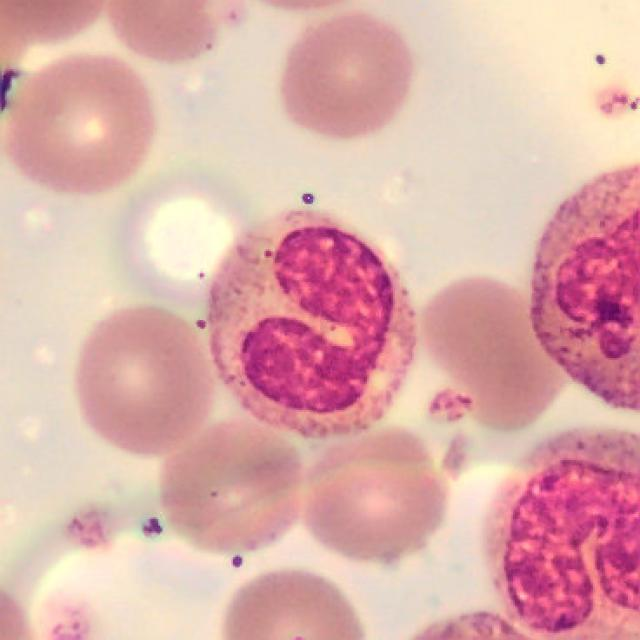Bastonete: (207, 204, 417, 441), (503, 432, 640, 633)
